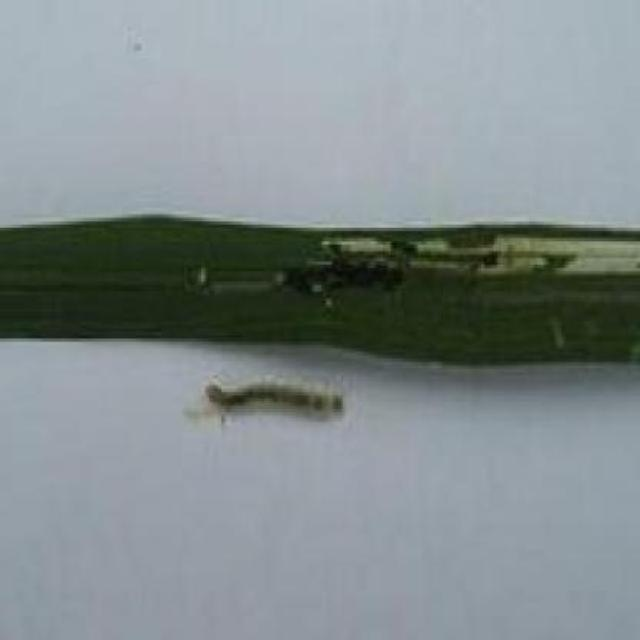leaf-folder: (187, 362, 376, 444)
